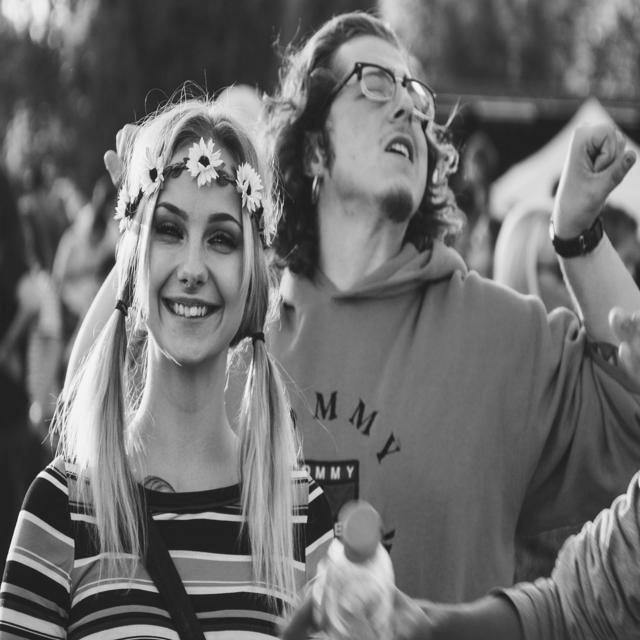Happiness: (144, 145, 258, 370)
